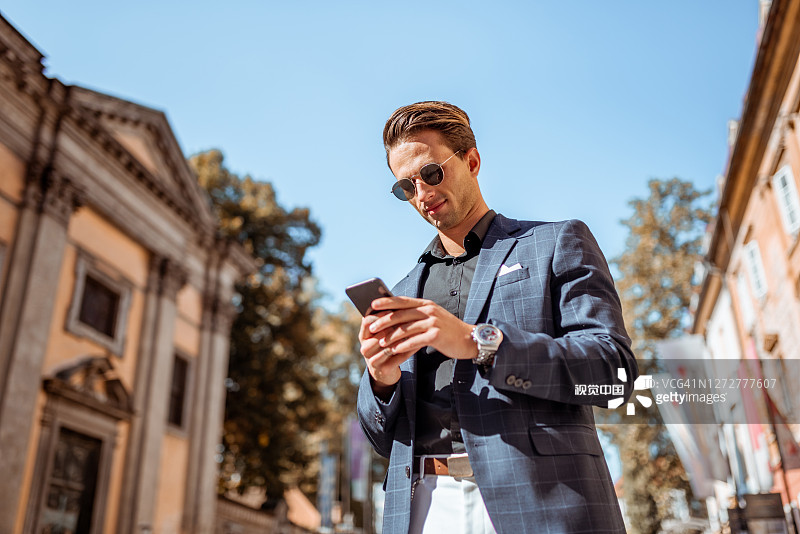reading: (337, 275, 496, 397)
